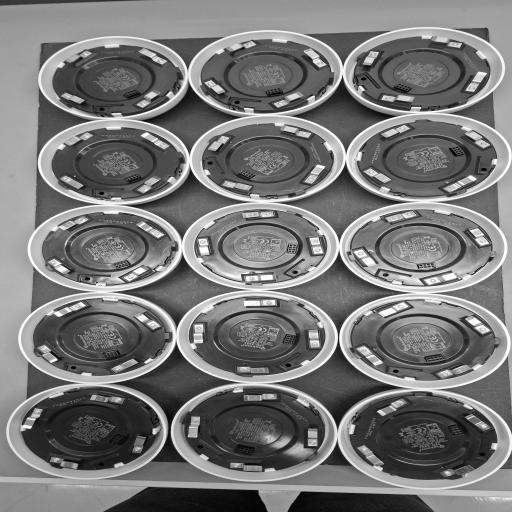konnektor: (446, 423, 465, 438), (234, 444, 255, 455), (425, 353, 445, 363), (416, 262, 438, 270), (109, 434, 125, 445), (238, 169, 255, 179), (124, 88, 139, 99), (393, 84, 413, 92), (285, 243, 299, 254), (450, 146, 465, 156), (265, 87, 283, 95), (124, 174, 142, 182), (112, 260, 130, 268), (283, 333, 295, 345), (102, 350, 119, 358)
yaysiz: (355, 444, 387, 467), (356, 344, 386, 368), (436, 462, 477, 479), (376, 397, 408, 418), (50, 301, 89, 318), (422, 270, 464, 285), (463, 412, 493, 433), (21, 407, 47, 431), (133, 310, 163, 330), (443, 175, 476, 193), (436, 363, 473, 379), (35, 344, 64, 364), (376, 302, 410, 319), (48, 454, 84, 470), (352, 248, 379, 269), (464, 314, 492, 334), (463, 130, 492, 149), (302, 48, 328, 69), (140, 132, 170, 150), (46, 258, 76, 276), (273, 91, 306, 107), (137, 48, 168, 65), (58, 215, 90, 231), (464, 71, 488, 92), (466, 226, 491, 246), (110, 357, 141, 373), (363, 167, 392, 184), (136, 221, 165, 238), (228, 461, 269, 473), (138, 174, 162, 194), (384, 210, 418, 224), (136, 90, 162, 108), (186, 414, 204, 440), (304, 164, 327, 184), (88, 393, 126, 405), (64, 132, 94, 147), (280, 125, 312, 139), (430, 36, 464, 49), (59, 175, 88, 190), (380, 125, 411, 139), (124, 265, 151, 281), (207, 135, 231, 152), (380, 94, 417, 105), (64, 50, 93, 64), (203, 80, 229, 95), (225, 41, 257, 53), (221, 181, 253, 193), (60, 92, 87, 106), (192, 323, 209, 345), (361, 50, 381, 68), (306, 328, 324, 348), (197, 237, 214, 258), (306, 426, 322, 448), (242, 393, 281, 402), (245, 272, 280, 282), (133, 433, 150, 453), (308, 235, 324, 256), (242, 210, 275, 220), (239, 299, 278, 307), (235, 366, 271, 374)
